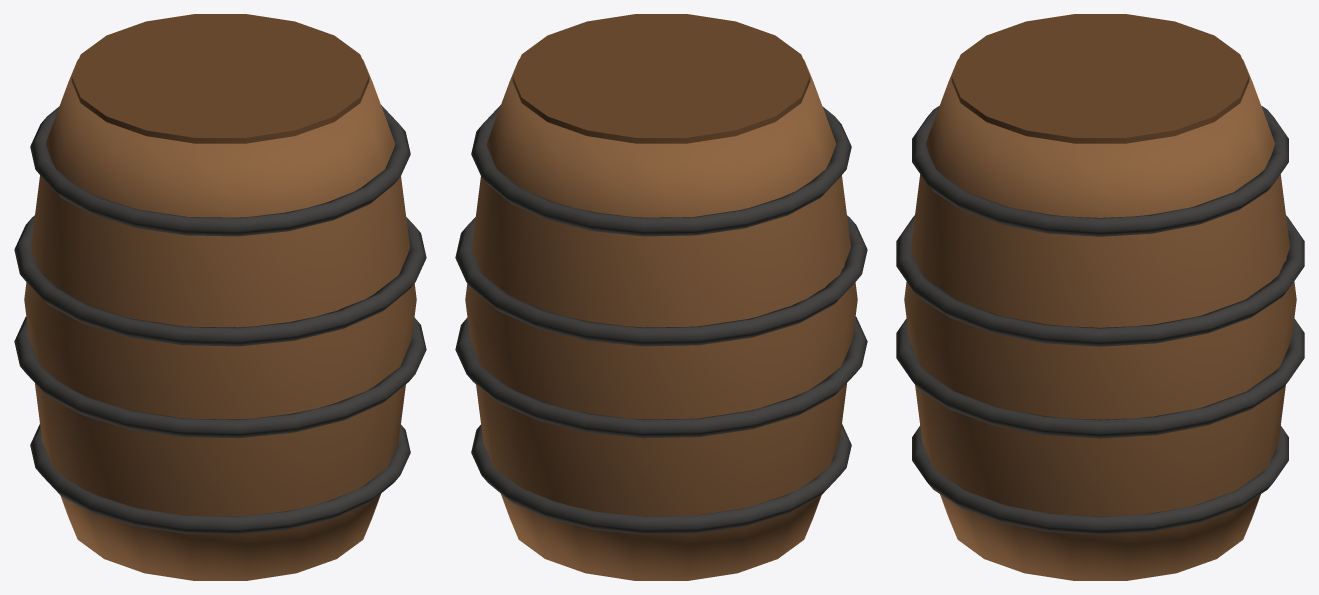
Rendered from barrel01.glb.
The picture shows the model from 3 angles, left to right: view 1: azimuth 30°, elevation 25°; view 2: azimuth 150°, elevation 25°; view 3: azimuth 270°, elevation 25°; orthographic projection.
Visible parts, largest first — view 1: body; view 2: body; view 3: body.
Part boxes in pixels (x1,y1,x2,y2): body: (14,14,426,580); body: (455,14,867,580); body: (896,14,1304,580).
Size of the model in its own units: 0.652 by 0.77 by 0.6454.
